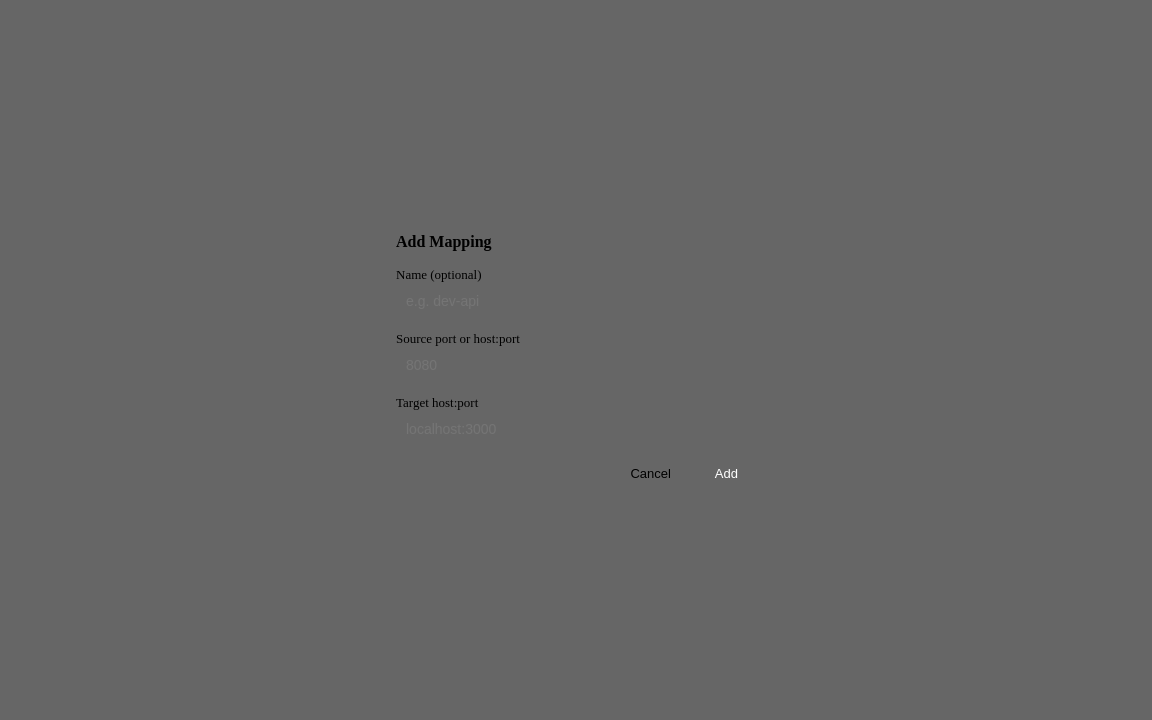
it: AddMappingDialog › shows validation error when submitted empty
Click the button "Add" at {"x": 726, "y": 473}, box [697,458,756,488]
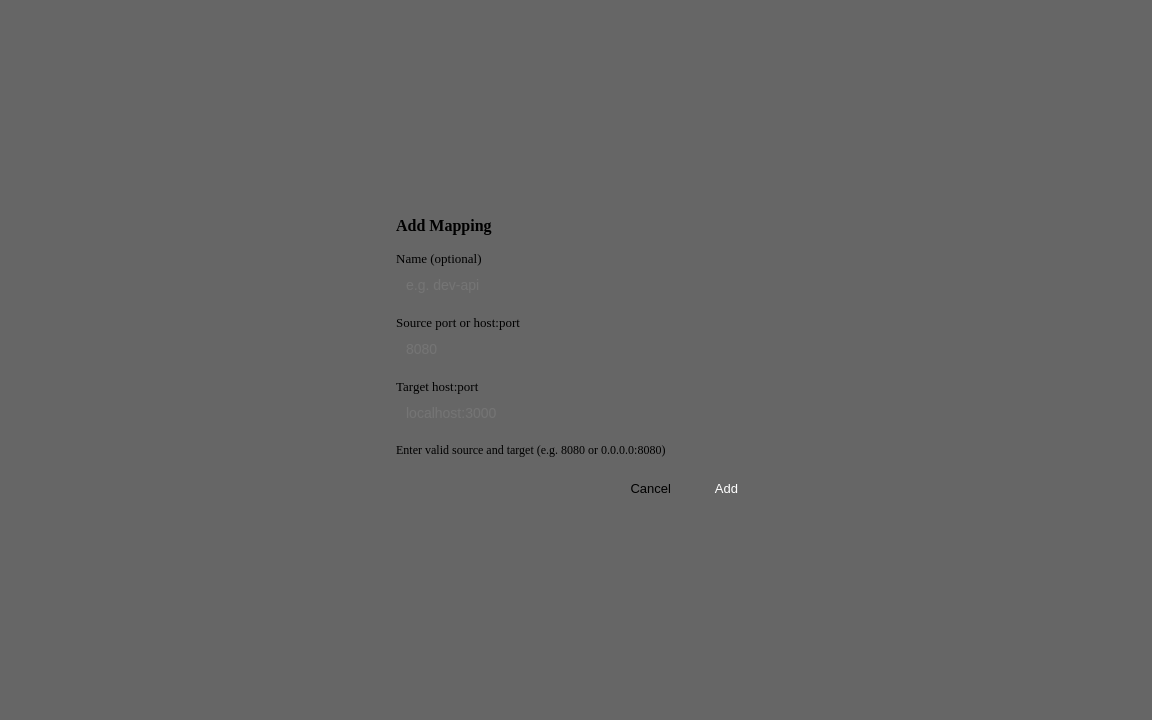
Now the text "Enter valid source and target (e.g. 8080 or 0.0.0.0:8080)" is shown, box [396,443,665,457]
